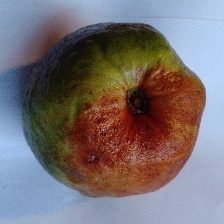guava: (18, 9, 218, 178)
